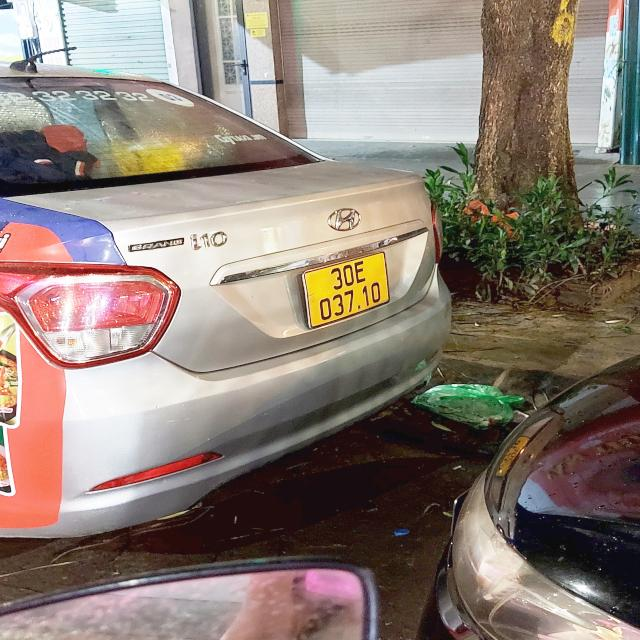license_plate: (300, 246, 395, 332)
